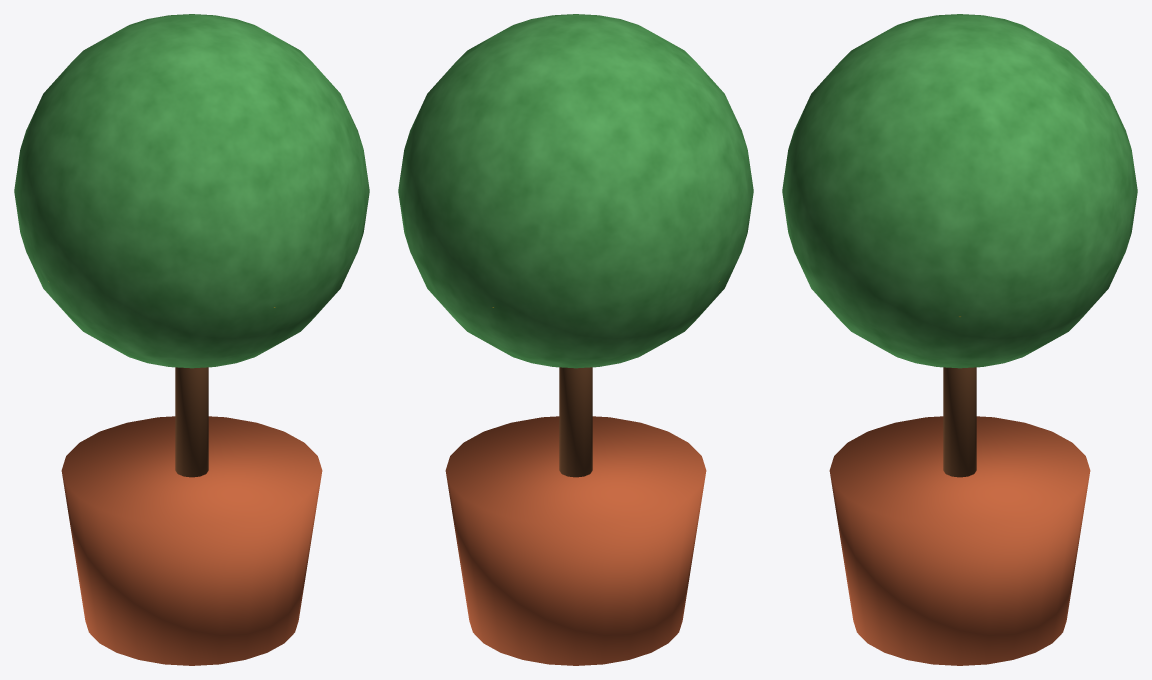
The model's file is SM_LemonTree.fbx.
3 views of the same model, side by side, from view 1: azimuth 30°, elevation 25°; view 2: azimuth 150°, elevation 25°; view 3: azimuth 270°, elevation 25° (orthographic).
Parts seen in each view (by area): view 1: SM_LemonTree; view 2: SM_LemonTree; view 3: SM_LemonTree.
Part boxes in pixels (left/top/right/bottom): SM_LemonTree: left=14, top=14, right=369, bottom=665; SM_LemonTree: left=398, top=14, right=753, bottom=665; SM_LemonTree: left=782, top=14, right=1137, bottom=665.
Size of what is drawn, in the model's own units: 1.5 by 2.75 by 1.5.
1 material, 1 textured.
